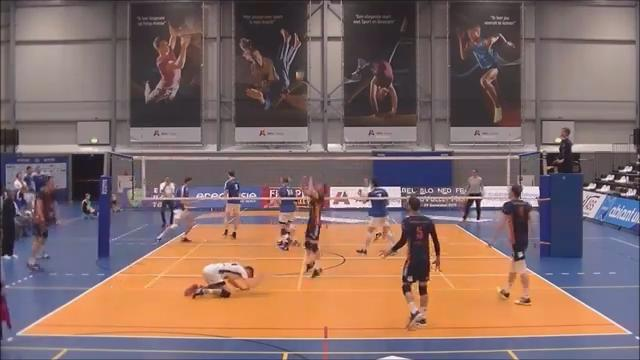alzata: (297, 168, 326, 280)
